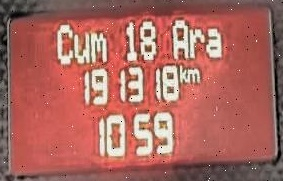0: (105, 111, 126, 158)
1: (121, 17, 137, 64), (94, 112, 104, 158), (114, 66, 126, 102), (80, 68, 90, 104), (151, 63, 160, 101)
3: (127, 63, 144, 103)
5: (131, 110, 152, 157)
8: (138, 17, 156, 62), (160, 62, 178, 102)
9: (151, 109, 173, 155), (91, 65, 108, 105)
X: (53, 19, 72, 68), (168, 16, 188, 61), (72, 27, 91, 67), (205, 23, 222, 62), (90, 29, 107, 64), (189, 23, 204, 61), (186, 65, 200, 83), (178, 61, 186, 84)
